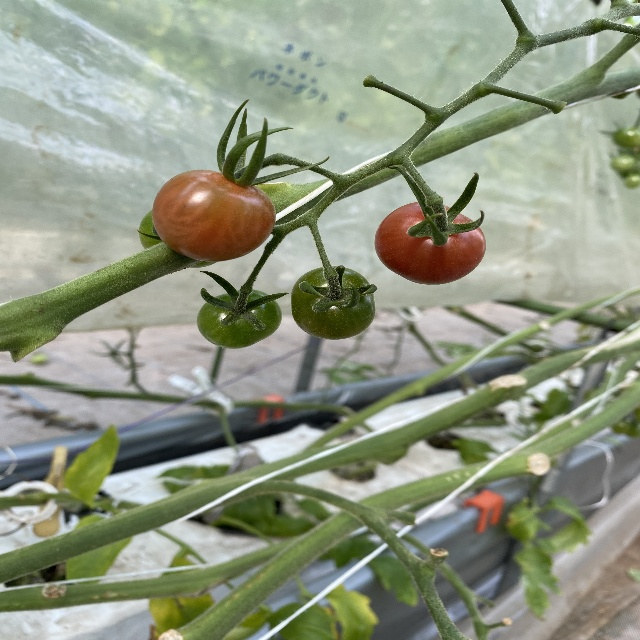l_fully_ripened: (375, 201, 486, 284)
l_green: (290, 267, 375, 339), (196, 291, 283, 348)
l_half_ripened: (151, 171, 276, 262)
